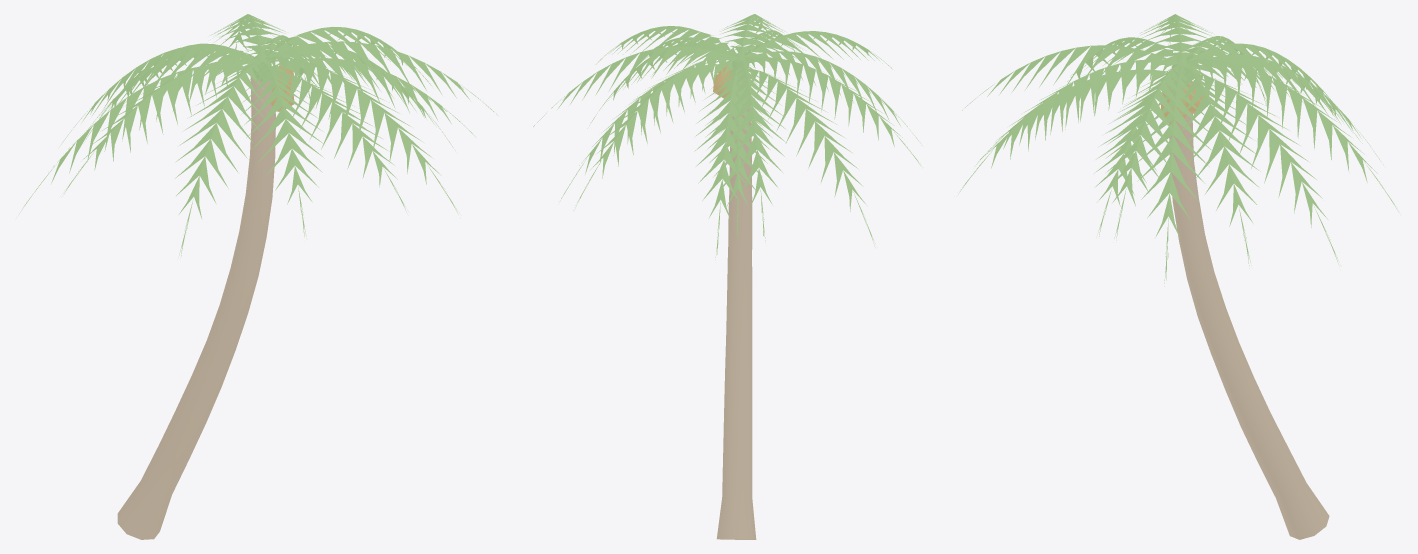
File: Blender_Palm_4.glb
The picture shows the model from 3 angles, left to right: view 1: azimuth 30°, elevation 25°; view 2: azimuth 150°, elevation 25°; view 3: azimuth 270°, elevation 25°; orthographic projection. The views are drawn at different scales.
Parts seen in each view (by area): view 1: Blender_Palm_4; view 2: Blender_Palm_4; view 3: Blender_Palm_4.
Boxes of the visible parts, x1,y1,x2,y2 form: Blender_Palm_4: (19, 14, 497, 539); Blender_Palm_4: (533, 14, 922, 539); Blender_Palm_4: (958, 14, 1398, 539).
Size of the model in its own units: 9.14 by 10.83 by 8.67.
